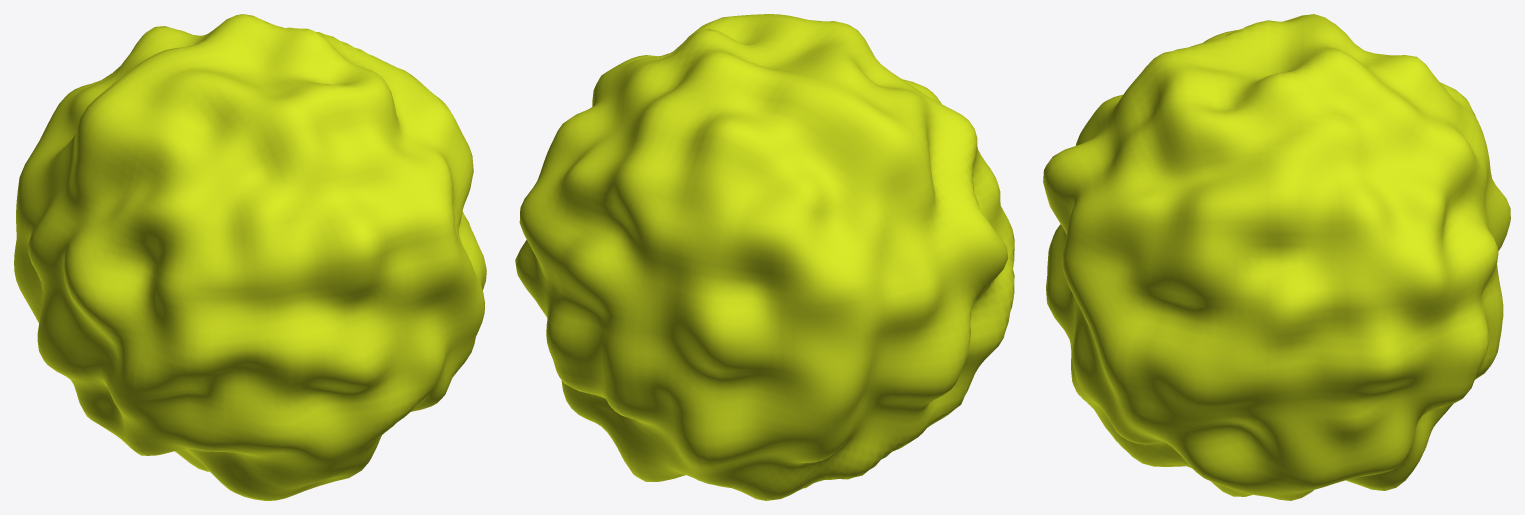
The model's file is Cholesterol.fbx.
The picture shows the model from 3 angles, left to right: view 1: azimuth 30°, elevation 25°; view 2: azimuth 150°, elevation 25°; view 3: azimuth 270°, elevation 25°; orthographic projection. The views are drawn at different scales.
Visible parts, largest first — view 1: Wbc nucleo; view 2: Wbc nucleo; view 3: Wbc nucleo.
Boxes of the visible parts, x1,y1,x2,y2 form: Wbc nucleo: [14, 14, 486, 500]; Wbc nucleo: [515, 14, 1014, 500]; Wbc nucleo: [1043, 14, 1510, 500].
Bounding box in the file's own units: 362 × 364 × 355.
